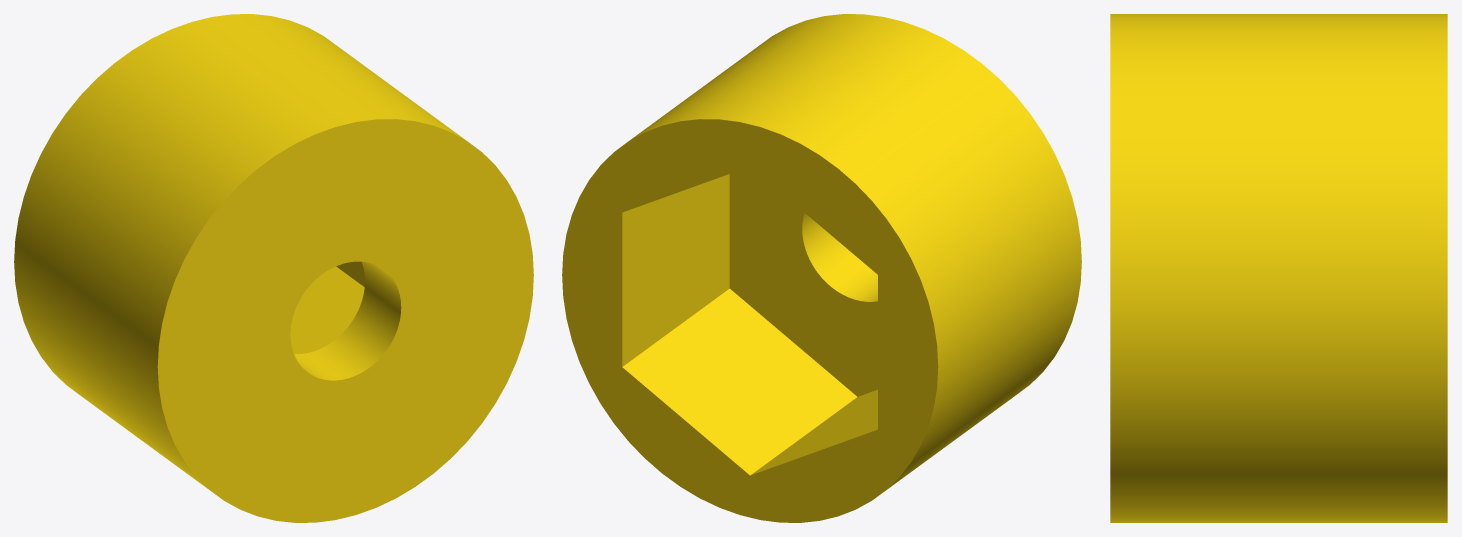
File: A26_S113_cappedHexSpacer.gltf
3 views of the same model, side by side, from view 1: azimuth 30°, elevation 25°; view 2: azimuth 150°, elevation 25°; view 3: azimuth 270°, elevation 25° (orthographic). The views are drawn at different scales.
Visible parts, largest first — view 1: mesh20712, mesh20711, mesh20713, mesh20717; view 2: mesh20711, mesh20714, mesh20717, mesh20715, mesh20716, mesh20713, mesh20718; view 3: mesh20711.
Part boxes in pixels (x1=…): mesh20712: x1=157, y1=119, x2=533, y2=522; mesh20711: x1=14, y1=14, x2=466, y2=494; mesh20713: x1=294, y1=261, x2=401, y2=380; mesh20717: x1=290, y1=266, x2=364, y2=353; mesh20711: x1=629, y1=14, x2=1081, y2=494; mesh20714: x1=562, y1=119, x2=938, y2=522; mesh20717: x1=622, y1=288, x2=856, y2=475; mesh20715: x1=729, y1=166, x2=877, y2=396; mesh20716: x1=622, y1=174, x2=729, y2=366; mesh20713: x1=802, y1=213, x2=877, y2=301; mesh20718: x1=750, y1=389, x2=877, y2=475; mesh20711: x1=1110, y1=14, x2=1447, y2=522.
Size of the model in its own units: 0.0191 by 0.019 by 0.0126.
